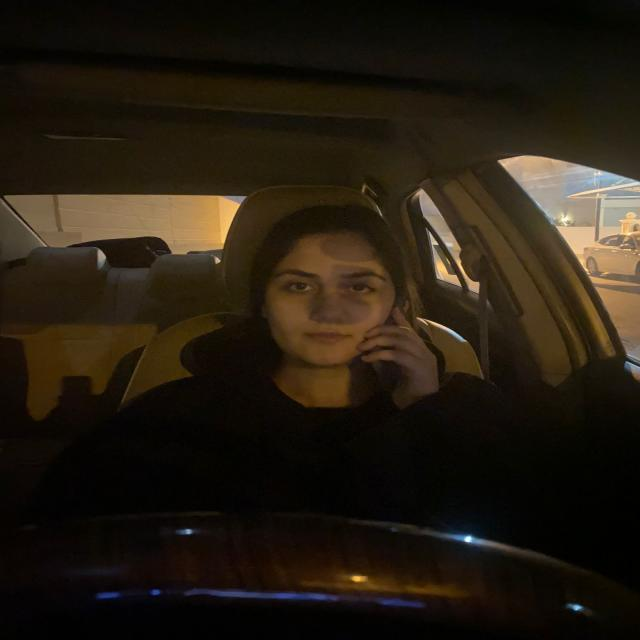mobile: (375, 283, 420, 396)
person: (262, 213, 384, 364)
